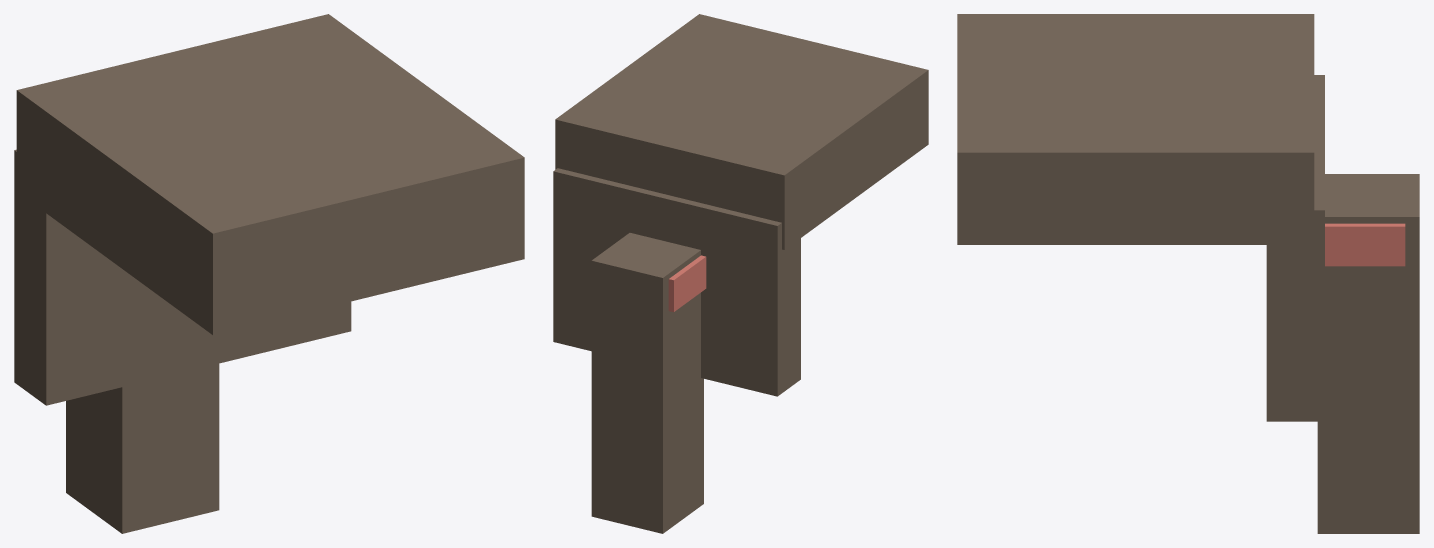
File: hair_ponytail.glb
3 views of the same model, side by side, from view 1: azimuth 30°, elevation 25°; view 2: azimuth 150°, elevation 25°; view 3: azimuth 270°, elevation 25° (orthographic). The views are drawn at different scales.
Parts seen in each view (by area): view 1: hair_ponytail; view 2: hair_ponytail; view 3: hair_ponytail.
Boxes of the visible parts, x1=… form: hair_ponytail: x1=14, y1=14, x2=524, y2=533; hair_ponytail: x1=553, y1=14, x2=928, y2=533; hair_ponytail: x1=957, y1=14, x2=1419, y2=533.
Bounding box in the file's own units: 0.225 × 0.325 × 0.3175.
